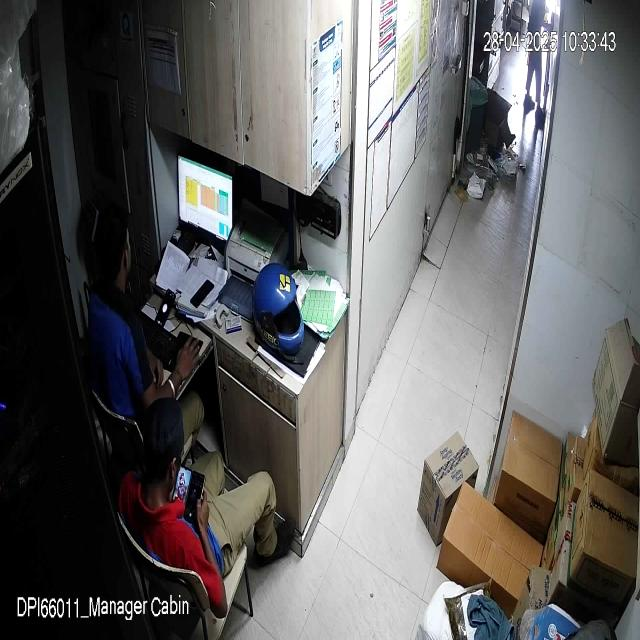helmet: (252, 261, 304, 358)
no_helmet: (143, 395, 185, 497), (95, 204, 131, 290)
